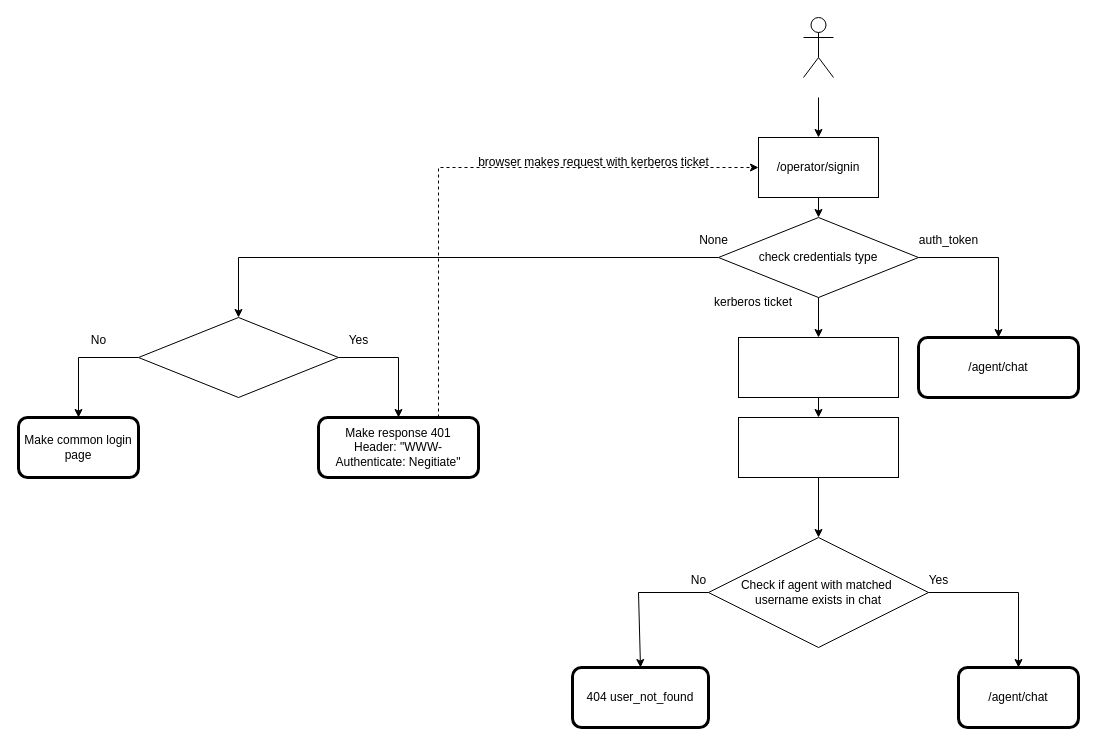
This 1097x746 diagram has some shape labels left out. Each missing label, with the centre of its shape:
"Agent" goes at (818,47).
"Get user entry from AD" goes at (818,447).
"Kerberos authentication, receiving user name of agent in AD" goes at (818,367).
"Should auth by AD? (depends on settings)" goes at (238,357).
